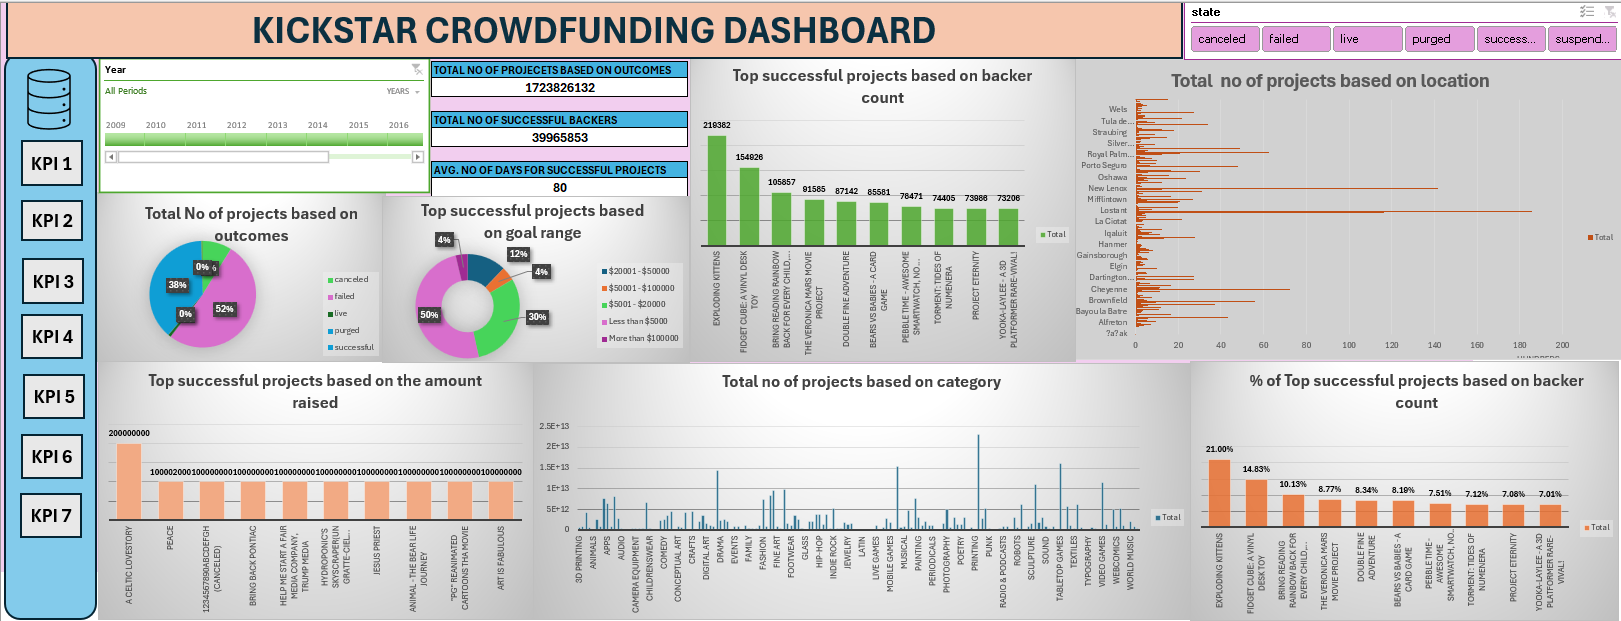

The page's visual inventory and layout, read from the dashboard file:
{"tool":"powerbi","page":{"name":"Dashboard","canvas":[1280,1400],"ordinal":0},"visuals":[{"type":"textbox","box":[11.4,10,1112.9,62.9],"z":0},{"type":"slicer","fields":{"Values":["Calendar.Date.Variation.Date Hierarchy.Year"]},"box":[11.4,86.9,129.7,156.8],"z":1000},{"type":"slicer","fields":{"Values":["Calendar.Date.Variation.Date Hierarchy.Quarter"]},"box":[11.4,256.6,129.7,159.6],"z":2000},{"type":"card","title":"Avg. No. of Days for Successful Projects","fields":{"Values":["Avg(Project.No_Days_for_completion)"]},"box":[608.6,86.9,206.7,94.1],"z":3000},{"type":"card","title":"Backers Count for Successful Projects","fields":{"Values":["Sum(Project.backers_count)"]},"box":[382,86.9,205.3,94.1],"z":4000},{"type":"card","title":"Amount Raised by Successful Projects","fields":{"Values":["Sum(Project.Static usd)"]},"box":[838.1,86.9,205.3,94.1],"z":5000},{"type":"donutChart","title":"No. of Projects by Outcome","fields":{"Category":["Project.state"],"Y":["CountNonNull(Project.id)"]},"box":[153.3,195,363.3,240],"z":6000},{"type":"clusteredBarChart","title":"No. of Projects by Country","fields":{"Y":["CountNonNull(Project.id)"],"Category":["Project.country"]},"box":[528.3,195,363.3,240],"z":7000},{"type":"clusteredBarChart","title":"No. of Projects by Category","fields":{"Y":["CountNonNull(Project.id)"],"Category":["Category.name"]},"box":[903.3,195,363.3,240],"z":8000},{"type":"slicer","fields":{"Values":["Calendar.Date.Variation.Date Hierarchy.Month"]},"box":[11.7,430,130,281.7],"z":9000},{"type":"card","title":"Successful Projects","fields":{"Values":["Project.Percentage_ofSuccessfulProjects"]},"box":[153.9,86.9,205.3,94.1],"z":10000},{"type":"actionButton","box":[1066.7,133.3,200,48.3],"z":11000},{"type":"tableEx","title":"Successful Projects","fields":{"Values":["Project.name","Sum(Project.Static usd)","Sum(Project.backers_count)","Sum(Project.No_Days_for_completion)"]},"box":[153.3,451.7,738.3,260],"z":12000},{"type":"funnel","title":"% of Successful Projects by Goal_Range","fields":{"Category":["Project.Goal_Range"],"Y":["Project.Percentage_ofSuccessfulProjects"]},"box":[903.3,451.7,363.3,260],"z":13000},{"type":"columnChart","title":"% of Successful Projects by Category","fields":{"Category":["Category.name"],"Y":["Project.Percentage_ofSuccessfulProjects"]},"box":[11.7,728.3,1255,313.3],"z":14000},{"type":"lineChart","title":"% of Successful Projects by Year","fields":{"Category":["Calendar.Date.Variation.Date Hierarchy.Year"],"Y":["Project.Percentage_ofSuccessfulProjects"]},"box":[11.7,1058.3,401.7,325],"z":15000},{"type":"lineChart","title":"% of Successful Projects by Quarter","fields":{"Y":["Project.Percentage_ofSuccessfulProjects"],"Category":["Calendar.Date.Variation.Date Hierarchy.Quarter"]},"box":[438.3,1058.3,401.7,325],"z":16000},{"type":"lineChart","title":"% of Successful Projects by Month","fields":{"Y":["Project.Percentage_ofSuccessfulProjects"],"Category":["Calendar.Date.Variation.Date Hierarchy.Month"]},"box":[865,1058.3,401.7,325],"z":17000},{"type":"shape","box":[1066.7,86.7,200,46.7],"z":18000},{"type":"image","box":[1135.7,10,130,62.9],"z":19000}]}

Visuals, with their boxes on the page's 1280x1400 design canvas (x1, y1, x2, y2). These are canvas units, not pixel positions in the 1621x621 screenshot, which may show the page scaled, cropped or inside an application window:
textbox: rect(11, 10, 1124, 73)
slicer - Calendar.Date.Variation.Date Hierarchy.Year: rect(11, 87, 141, 244)
slicer - Calendar.Date.Variation.Date Hierarchy.Quarter: rect(11, 257, 141, 416)
"Avg. No. of Days for Successful Projects" card: rect(609, 87, 815, 181)
"Backers Count for Successful Projects" card: rect(382, 87, 587, 181)
"Amount Raised by Successful Projects" card: rect(838, 87, 1043, 181)
"No. of Projects by Outcome" donutChart: rect(153, 195, 517, 435)
"No. of Projects by Country" clusteredBarChart: rect(528, 195, 892, 435)
"No. of Projects by Category" clusteredBarChart: rect(903, 195, 1267, 435)
slicer - Calendar.Date.Variation.Date Hierarchy.Month: rect(12, 430, 142, 712)
"Successful Projects" card: rect(154, 87, 359, 181)
actionButton: rect(1067, 133, 1267, 182)
"Successful Projects" tableEx: rect(153, 452, 892, 712)
"% of Successful Projects by Goal_Range" funnel: rect(903, 452, 1267, 712)
"% of Successful Projects by Category" columnChart: rect(12, 728, 1267, 1042)
"% of Successful Projects by Year" lineChart: rect(12, 1058, 413, 1383)
"% of Successful Projects by Quarter" lineChart: rect(438, 1058, 840, 1383)
"% of Successful Projects by Month" lineChart: rect(865, 1058, 1267, 1383)
shape: rect(1067, 87, 1267, 133)
image: rect(1136, 10, 1266, 73)
